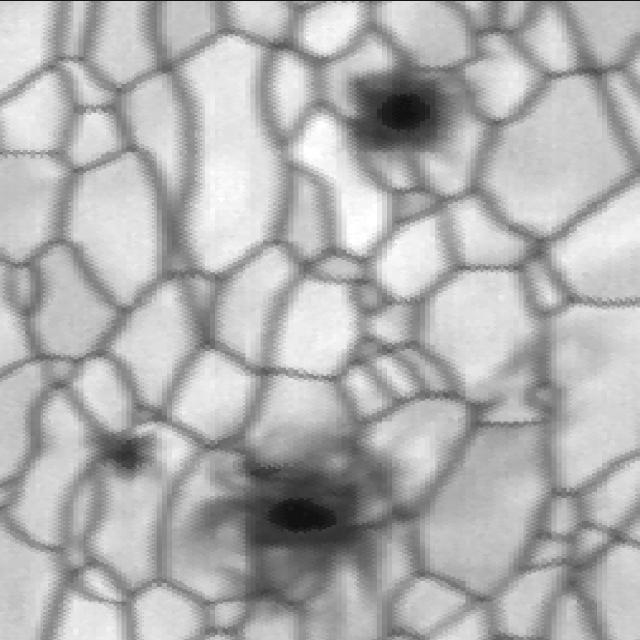good_void: (180, 435, 405, 634), (338, 57, 460, 188), (76, 404, 179, 486)
